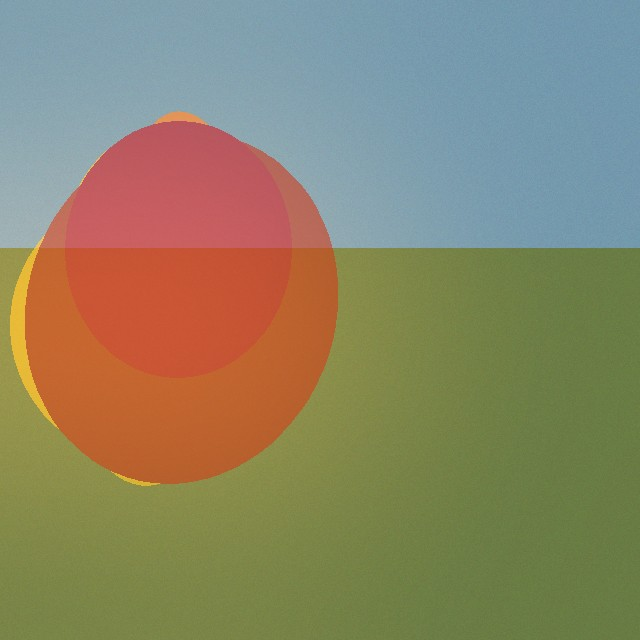fire: (55, 174, 307, 474)
